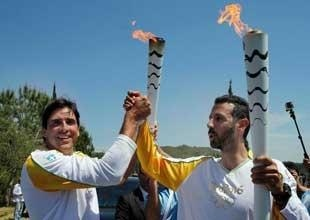fire: (216, 1, 249, 34), (128, 19, 156, 40)
